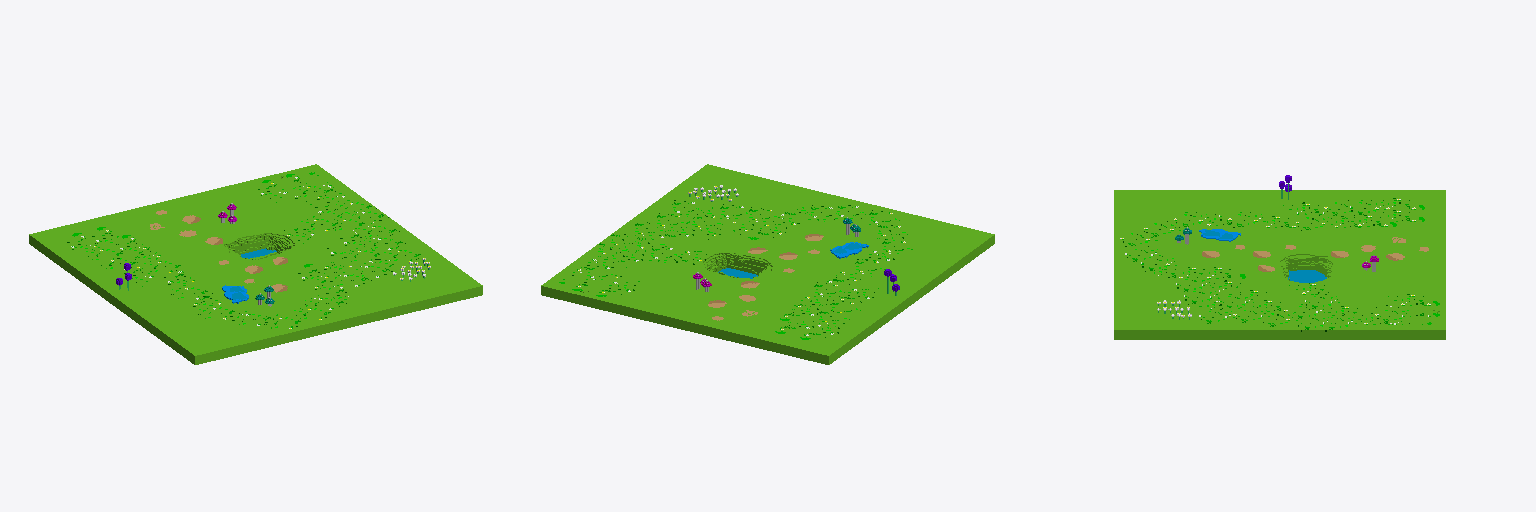
The picture shows the model from 3 angles: view 1: azimuth 30°, elevation 25°; view 2: azimuth 150°, elevation 25°; view 3: azimuth 270°, elevation 25°; orthographic projection.
Parts seen in each view (by area): view 1: Model; view 2: Model; view 3: Model.
Boxes of the visible parts, x1,y1,x2,y2 form: Model: [29, 164, 482, 364]; Model: [541, 164, 994, 364]; Model: [1114, 175, 1445, 339].
Size of the model in its own units: 32 by 4.12 by 32.
Materials: 1 (1 with a texture image).